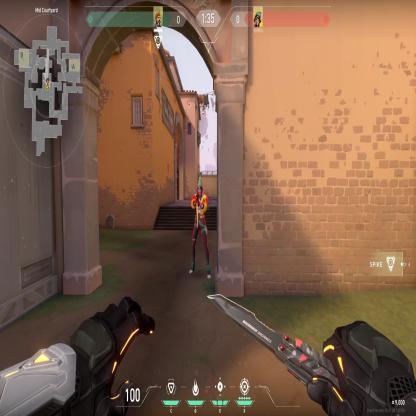enemy: (188, 177, 212, 278)
